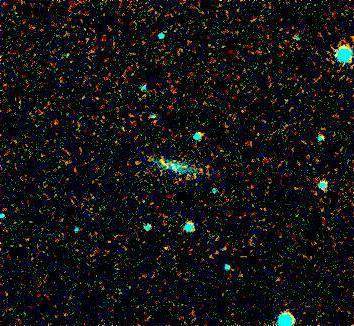star: (148, 145, 178, 175)
